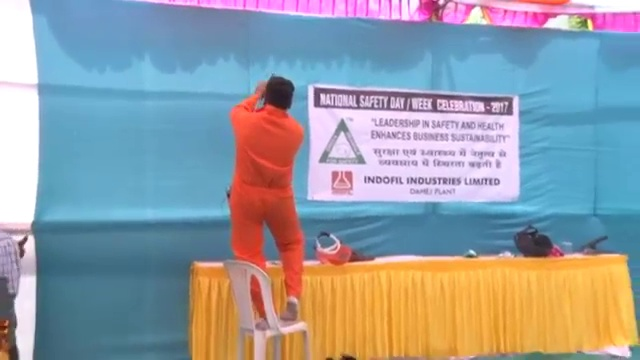helmet_off: (265, 76, 298, 112)
person: (227, 73, 311, 325)
